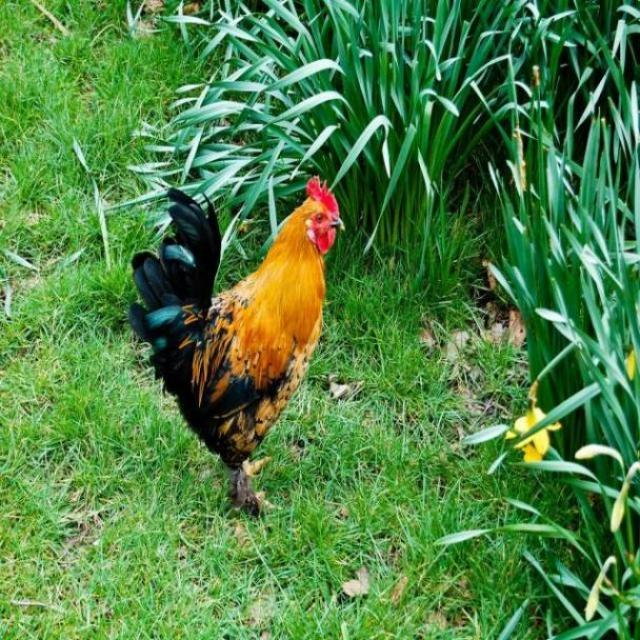Chicken: (128, 174, 346, 509)
